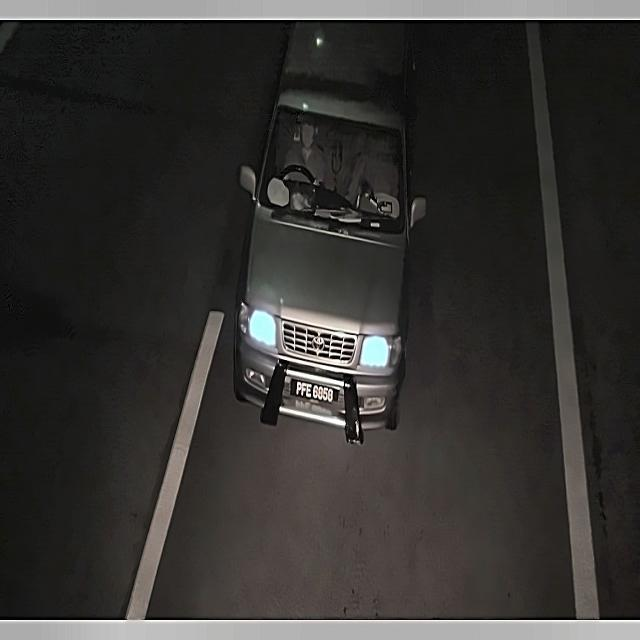car: (286, 373, 343, 411)
